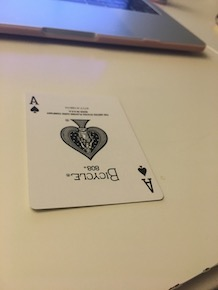AceOfSpades: (22, 88, 166, 222)
